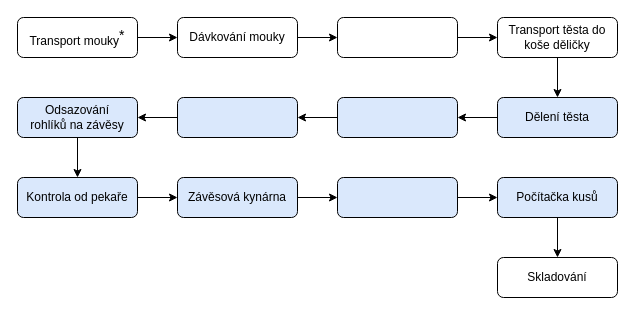
The diagram is 635 pixels wide and 315 high, and some of its shapes have lost their labels. The centre of each missing label's shape, as x and y in pixels:
"Mísení" belongs at pixel 397 37.
"Pečení" belongs at pixel 397 197.
"Předkynárna" belongs at pixel 397 117.
"Rohlíkový stroj" belongs at pixel 237 117.
